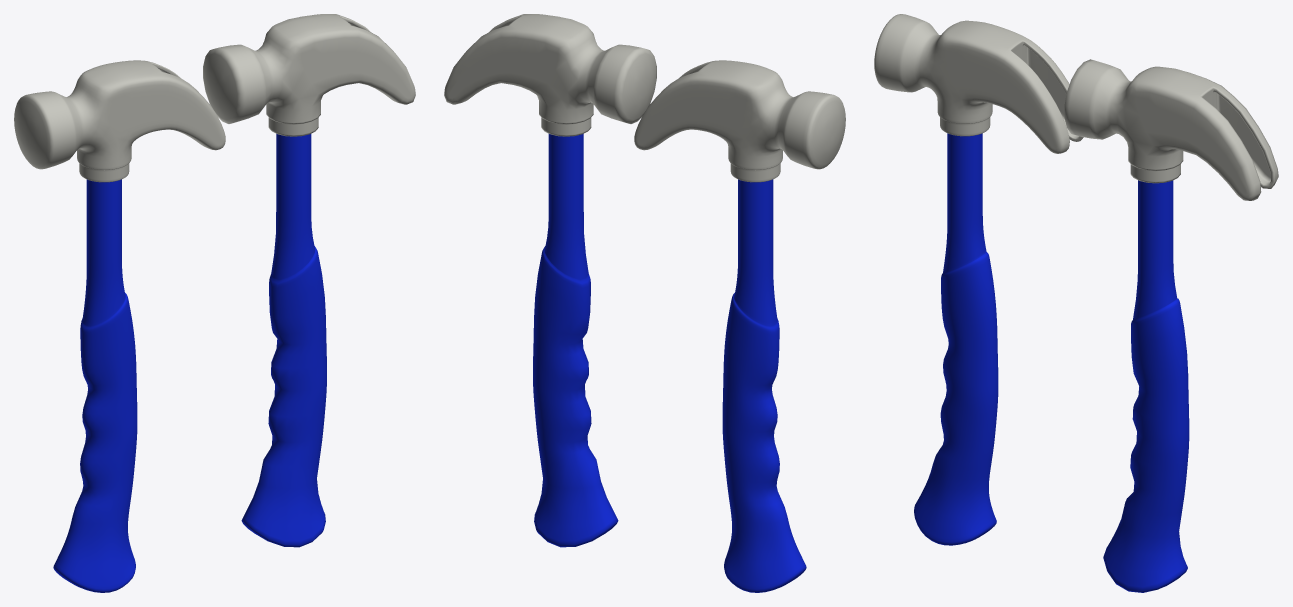
The model's file is Hammer.obj.
3 views of the same model, side by side, from view 1: azimuth 30°, elevation 25°; view 2: azimuth 150°, elevation 25°; view 3: azimuth 330°, elevation 25° (orthographic).
Visible parts, largest first — view 1: Handle_1, Handle, Upper_part_1, Upper_part; view 2: Handle_1, Handle, Upper_part_1, Upper_part; view 3: Handle_1, Handle, Upper_part_1, Upper_part.
Part boxes in pixels (x1,y1,x2,y2): Handle_1: (241, 134, 326, 547); Handle: (53, 179, 137, 592); Upper_part_1: (203, 14, 415, 136); Upper_part: (14, 60, 225, 182); Handle_1: (533, 134, 618, 547); Handle: (722, 179, 806, 592); Upper_part_1: (444, 14, 656, 136); Upper_part: (634, 60, 845, 182); Handle_1: (1103, 180, 1189, 592); Handle: (914, 133, 998, 545); Upper_part_1: (1064, 59, 1278, 200); Upper_part: (874, 14, 1083, 153).
Size of the model in its own units: 16.88 by 21.78 by 2.95.
